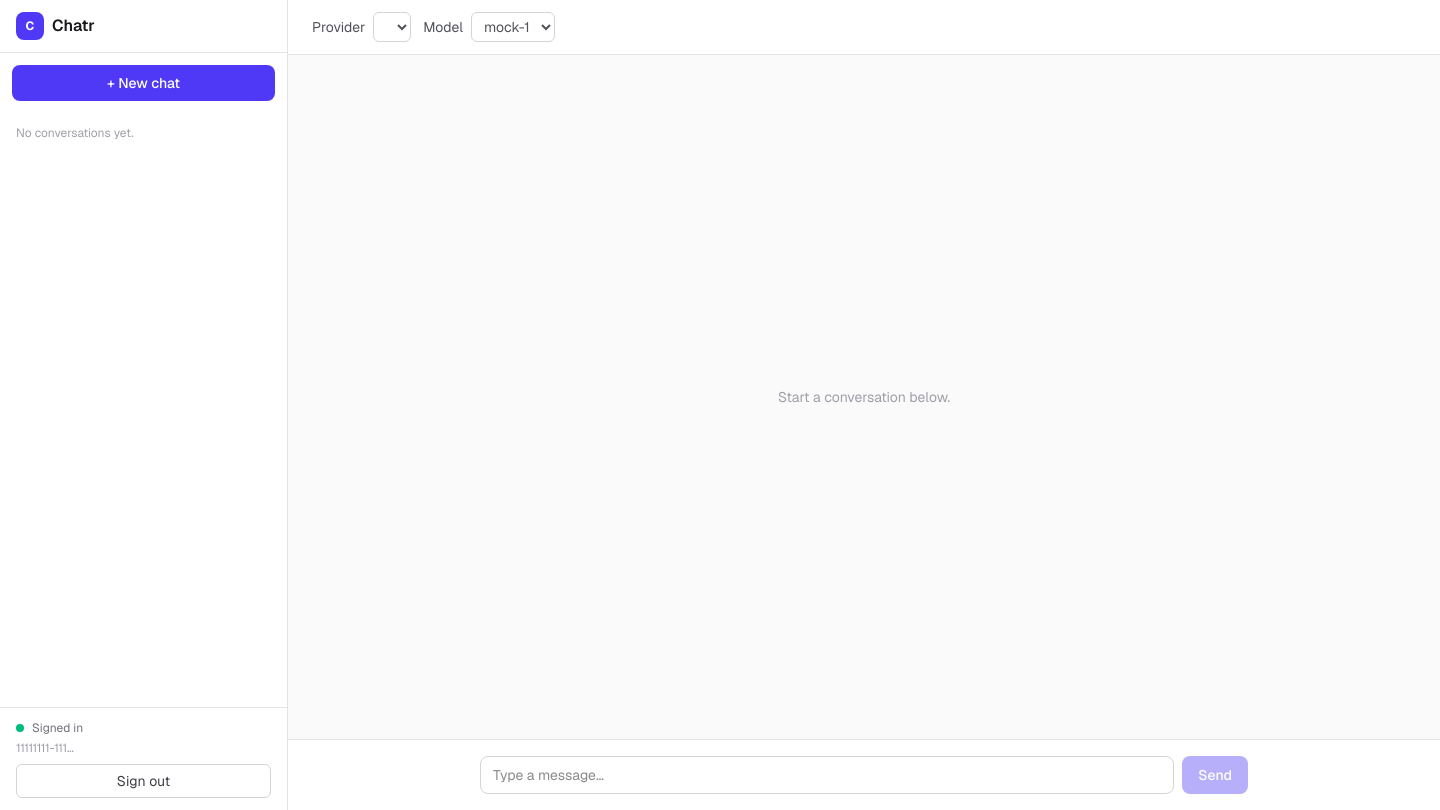
Test: ChatWorkspace › shows a fallback notice and the reply when the server retries with another provider
Type "fallback me" into the text box with placeholder "Type a message…" at (827, 775), box [480,756,1174,794]
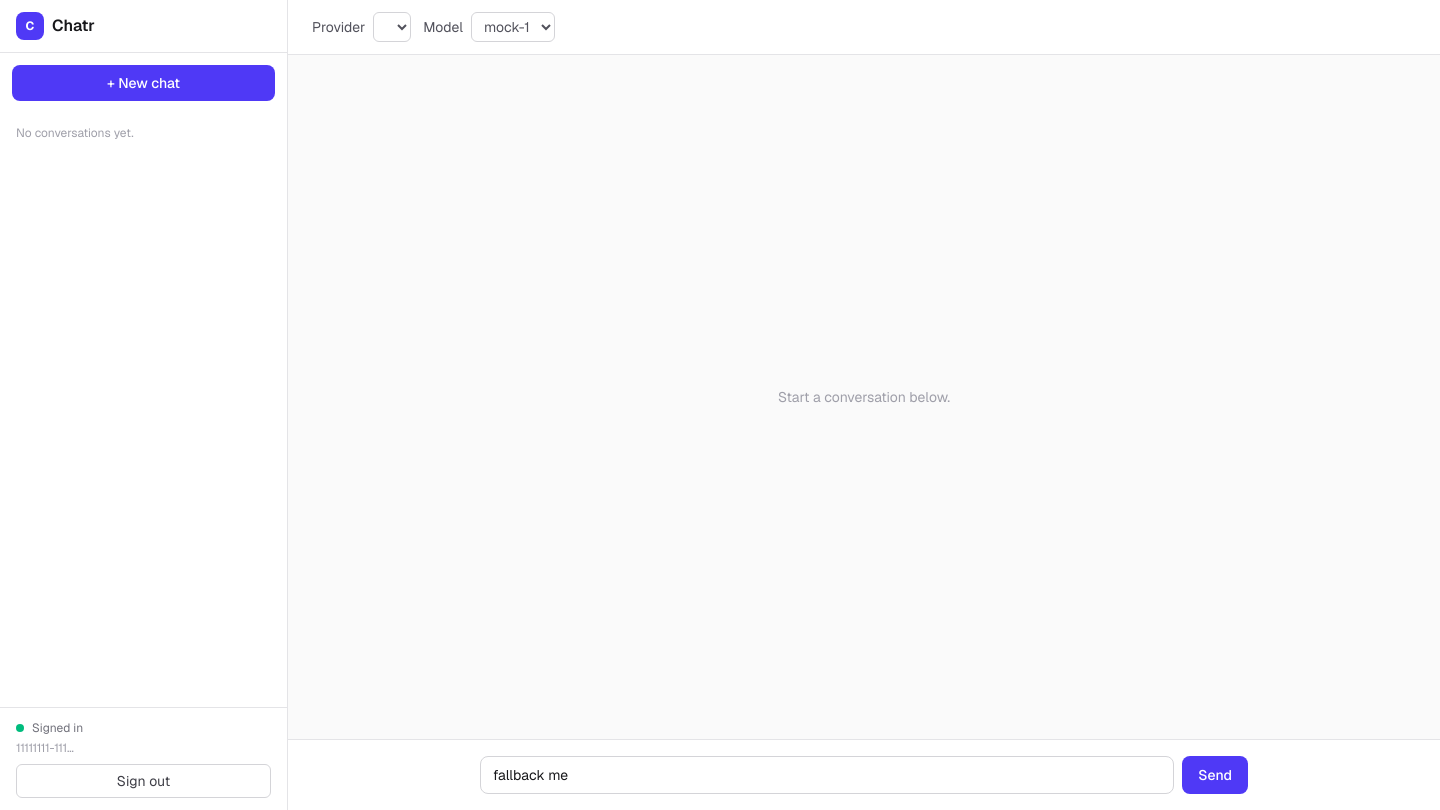
Click the button "Send" at (1215, 775), box [1182,756,1248,794]
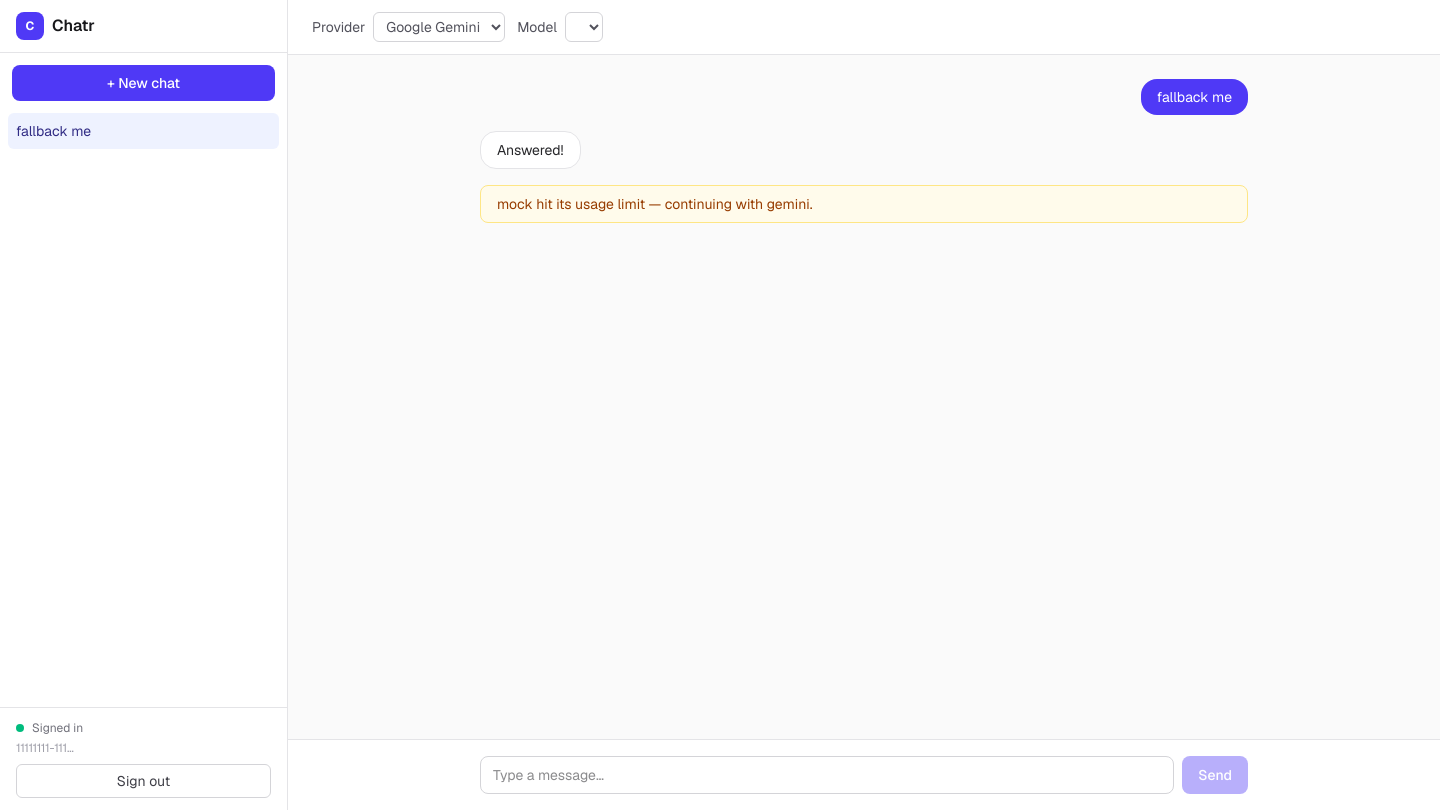
Now the text "mock hit its usage limit — continuing with gemini." is shown, box [480,185,1248,223]
Now the text "Answered!" is shown, box [480,131,581,169]
